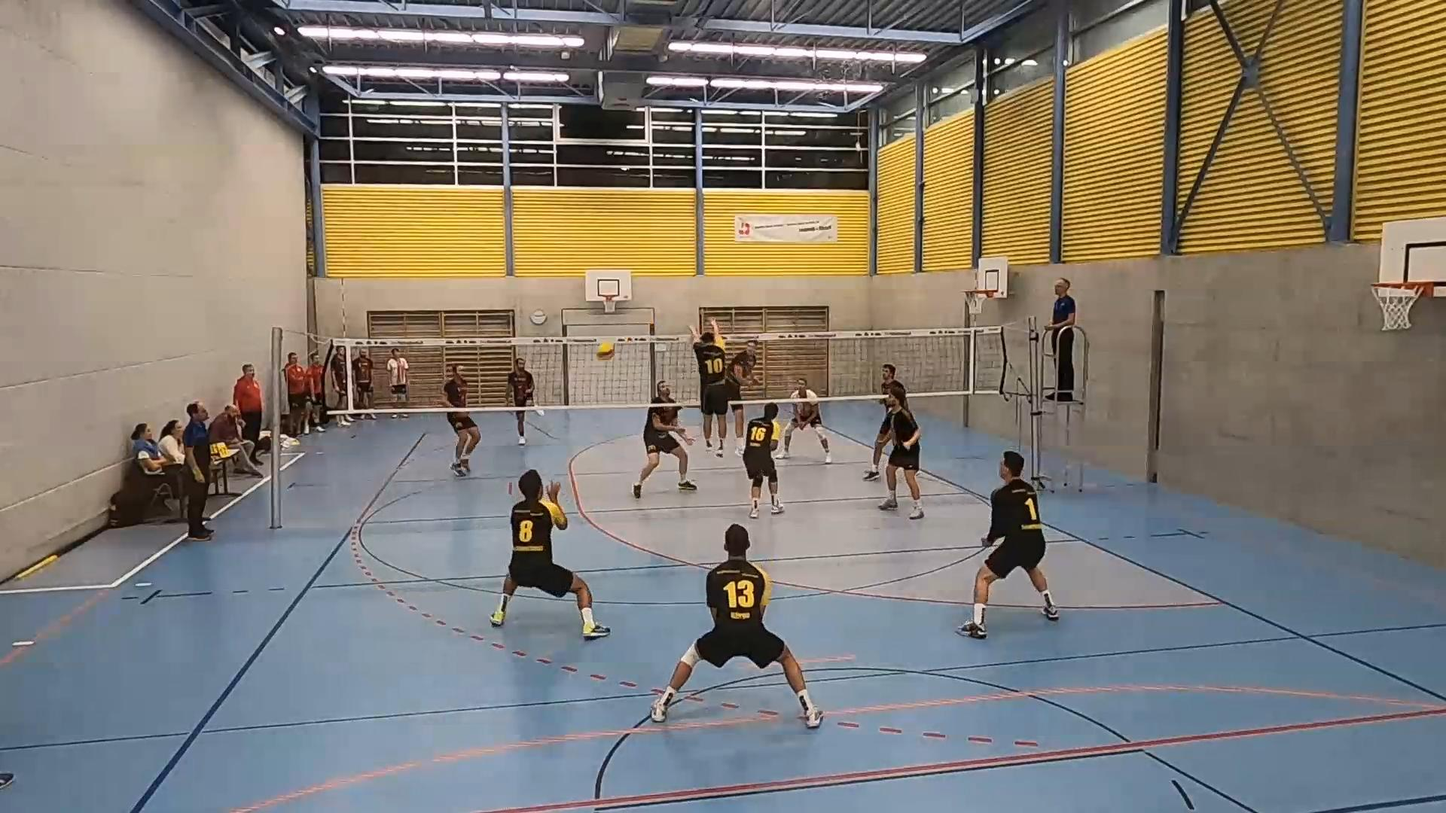Attack: (717, 325, 762, 459)
Block: (691, 315, 743, 452)
Dig: (490, 471, 617, 645)
Player: (651, 524, 822, 728), (957, 450, 1058, 638), (633, 382, 696, 498), (879, 383, 923, 518), (775, 376, 831, 462), (743, 403, 783, 518), (444, 364, 480, 476), (863, 408, 891, 480), (507, 357, 533, 406)
ball: (598, 344, 621, 359)
